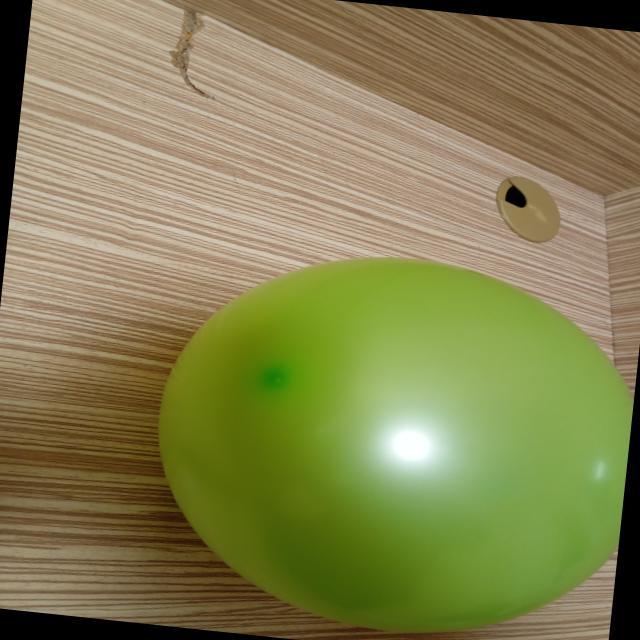balloon: (158, 257, 633, 633)
